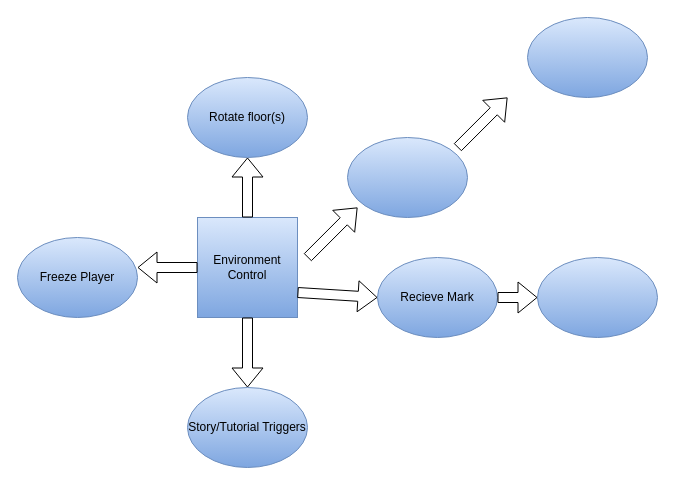
Some shapes in this 675 by 485 pixel diagram are drawn without their labels. The centre of each missing label's shape, as x and y in pixels:
"Change Layout, open/close water, teleport" goes at point (587, 57).
"Interact Recieved" goes at point (407, 177).
"Place mark in minimap" goes at point (597, 297).
